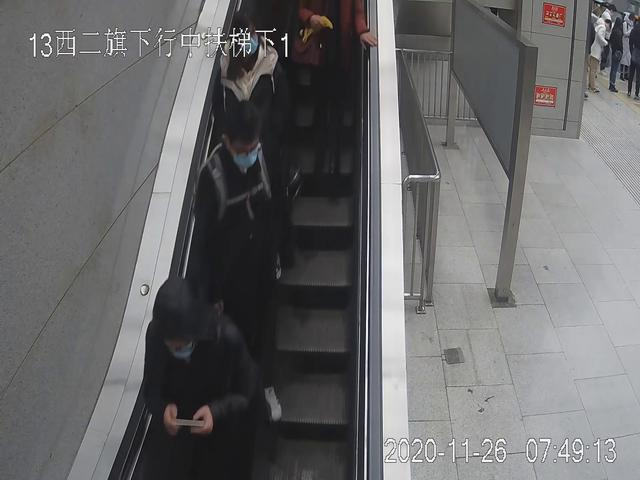person: (191, 103, 282, 421), (213, 10, 294, 311), (147, 281, 256, 480), (587, 14, 608, 93), (607, 17, 622, 95)
